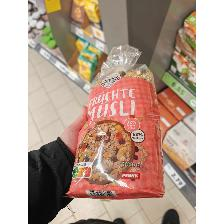Cerealien: (60, 44, 168, 200)
